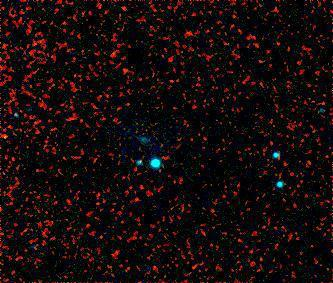star: (0, 127, 20, 157)
